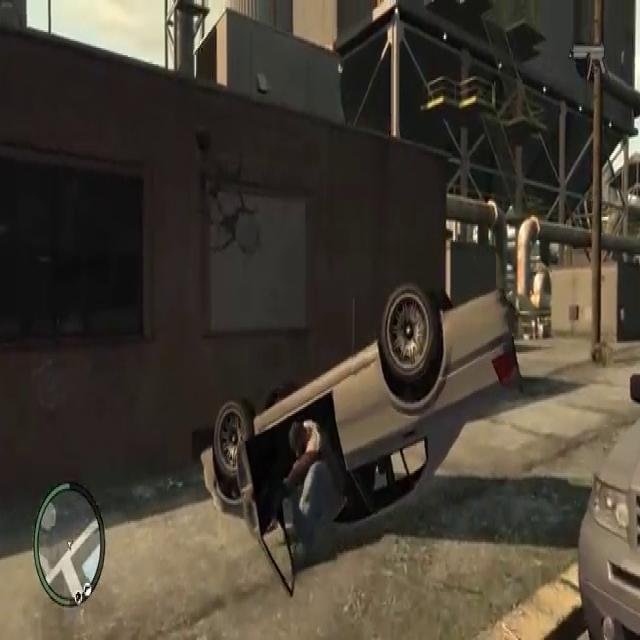severe: (192, 279, 524, 606)
